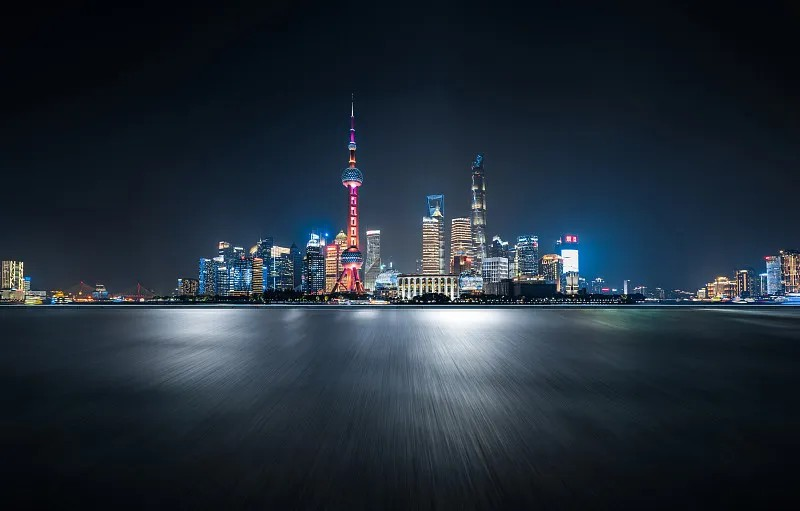Oriental: (331, 93, 372, 300)
